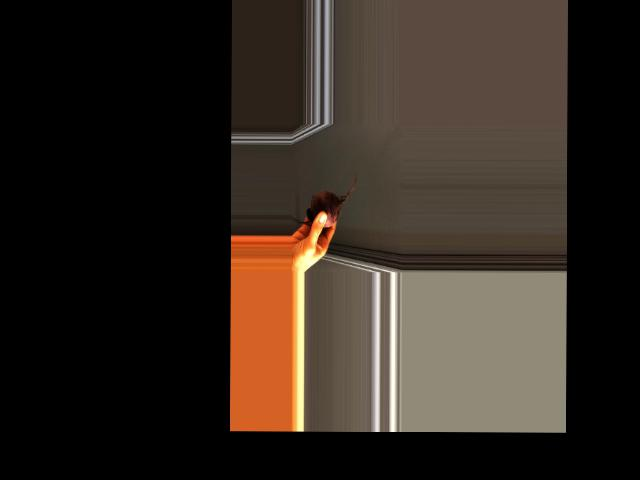beet: (290, 171, 357, 227)
